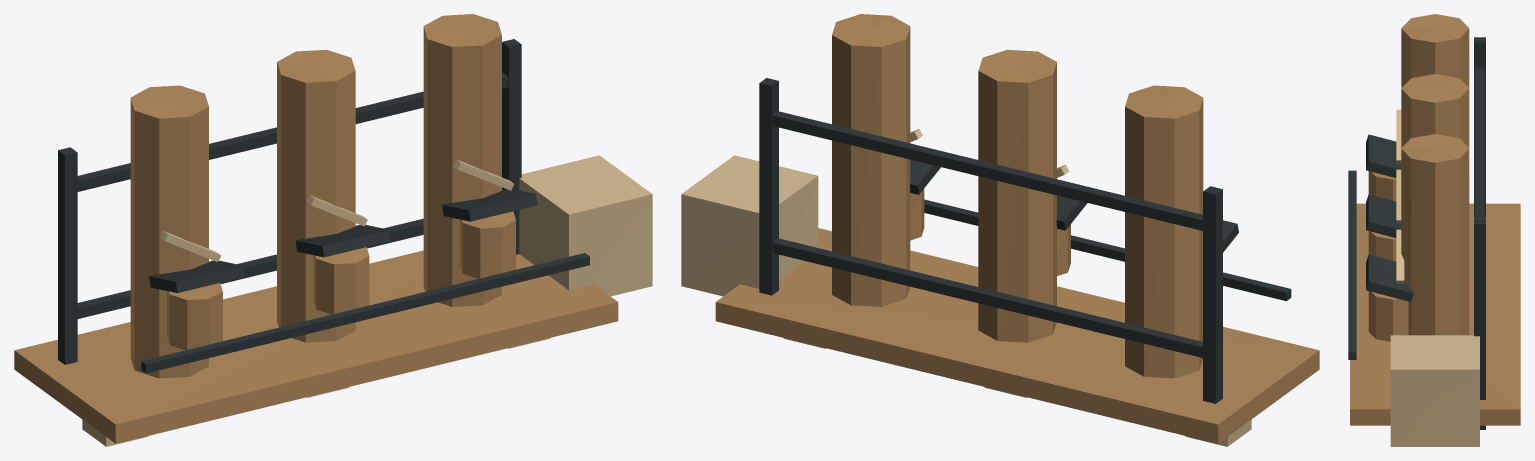
Rendered from Resin-Collector.glb.
3 views of the same model, side by side, from view 1: azimuth 30°, elevation 25°; view 2: azimuth 150°, elevation 25°; view 3: azimuth 270°, elevation 25° (orthographic). The views are drawn at different scales.
Parts seen in each view (by area): view 1: resin-collector-static-resin-collector-warm-timber-trunks-wa, resin-collector-static-resin-collector-charcoal-frame-hoods, resin-collector-static-resin-collector-cream-storage-box, resin-collector-static-resin-collector-muted-teal-closed-cup; view 2: resin-collector-static-resin-collector-warm-timber-trunks-wa, resin-collector-static-resin-collector-charcoal-frame-hoods, resin-collector-static-resin-collector-cream-storage-box, resin-collector-static-resin-collector-muted-teal-closed-cup; view 3: resin-collector-static-resin-collector-warm-timber-trunks-wa, resin-collector-static-resin-collector-cream-storage-box, resin-collector-static-resin-collector-charcoal-frame-hoods, resin-collector-static-resin-collector-muted-teal-closed-cup.
Boxes of the visible parts, x1,y1,x2,y2 form: resin-collector-static-resin-collector-warm-timber-trunks-wa: (14, 14, 618, 443); resin-collector-static-resin-collector-charcoal-frame-hoods: (58, 39, 589, 373); resin-collector-static-resin-collector-cream-storage-box: (159, 155, 652, 296); resin-collector-static-resin-collector-muted-teal-closed-cup: (167, 211, 515, 350); resin-collector-static-resin-collector-warm-timber-trunks-wa: (715, 14, 1319, 443); resin-collector-static-resin-collector-charcoal-frame-hoods: (759, 78, 1291, 403); resin-collector-static-resin-collector-cream-storage-box: (681, 129, 1069, 296); resin-collector-static-resin-collector-muted-teal-closed-cup: (910, 189, 1070, 275); resin-collector-static-resin-collector-warm-timber-trunks-wa: (1350, 14, 1520, 425); resin-collector-static-resin-collector-cream-storage-box: (1390, 109, 1479, 446); resin-collector-static-resin-collector-charcoal-frame-hoods: (1348, 37, 1485, 429); resin-collector-static-resin-collector-muted-teal-closed-cup: (1368, 171, 1408, 341).
Bounding box in the file's own units: 6.7 × 3.63 × 2.12.
